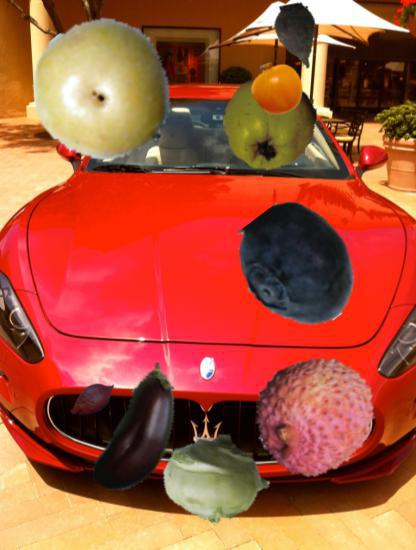Beetroot: (262, 2, 332, 72)
Blueberry: (234, 203, 362, 331)
Eggplant: (73, 363, 212, 502)
Kohlrabi: (162, 423, 273, 534)
Lychee: (254, 353, 379, 478)
Maracuja: (32, 18, 176, 162)
Physalis: (250, 60, 306, 116)
Quince: (223, 75, 319, 171)
Salak: (68, 374, 119, 425)
